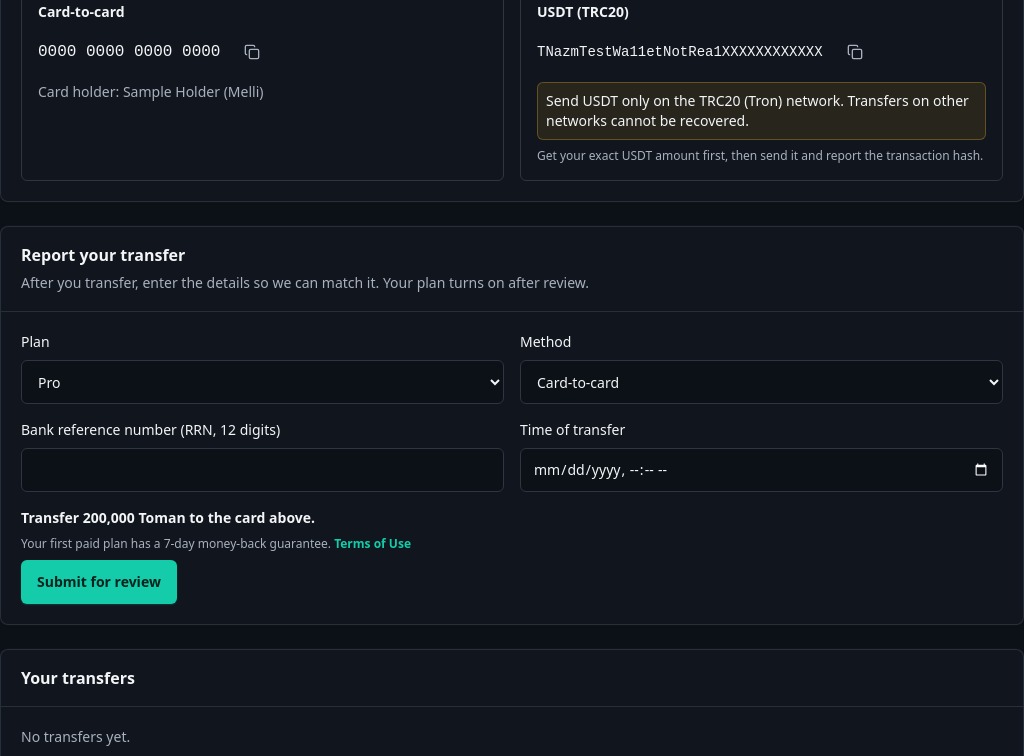
Test: BillingScreen › keeps the confirmation when refreshing the list fails after a successful submit
(page scrolled)
Expected: the text "TNazmTestWa11etNotRea1XXXXXXXXXXXX" is shown, x1=537 y1=42 x2=823 y2=62
Type "۱۲۳۴۵۶۷۸۹۰۱۲" into the field labelled "Bank reference number (RRN, 12 digits)" at (262, 470), box x1=21 y1=448 x2=504 y2=492
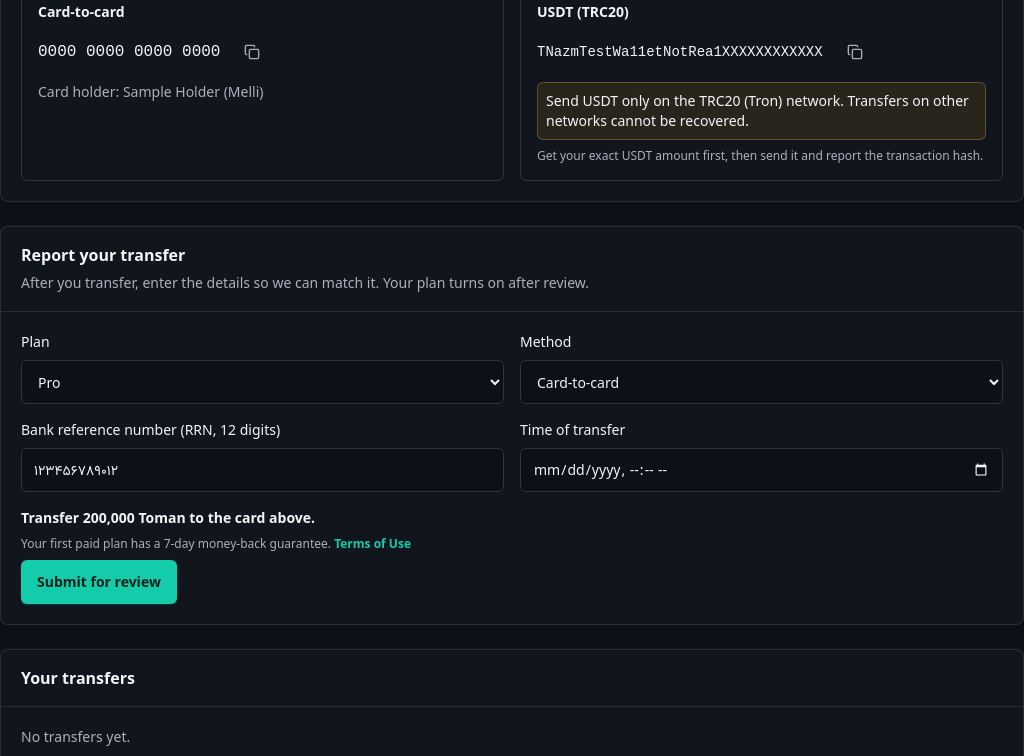
Type "2026-09-30T10:00" into the field labelled "Time of transfer" at (762, 470), box x1=520 y1=448 x2=1003 y2=492
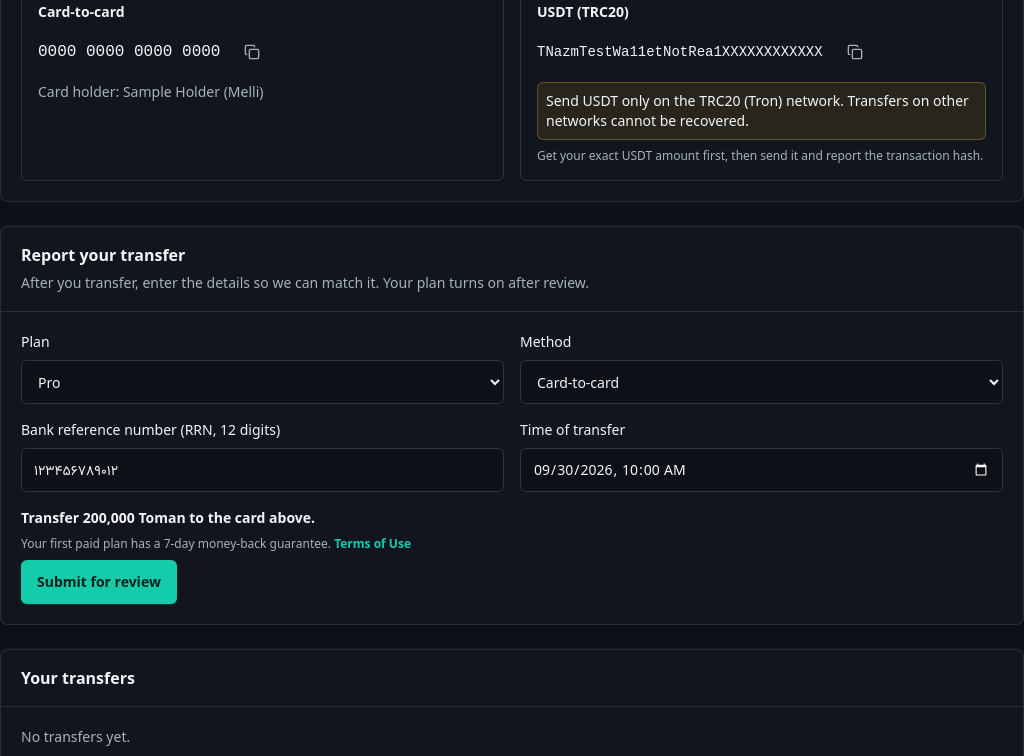
Click the button "Submit for review" at (99, 582), box x1=21 y1=560 x2=177 y2=604
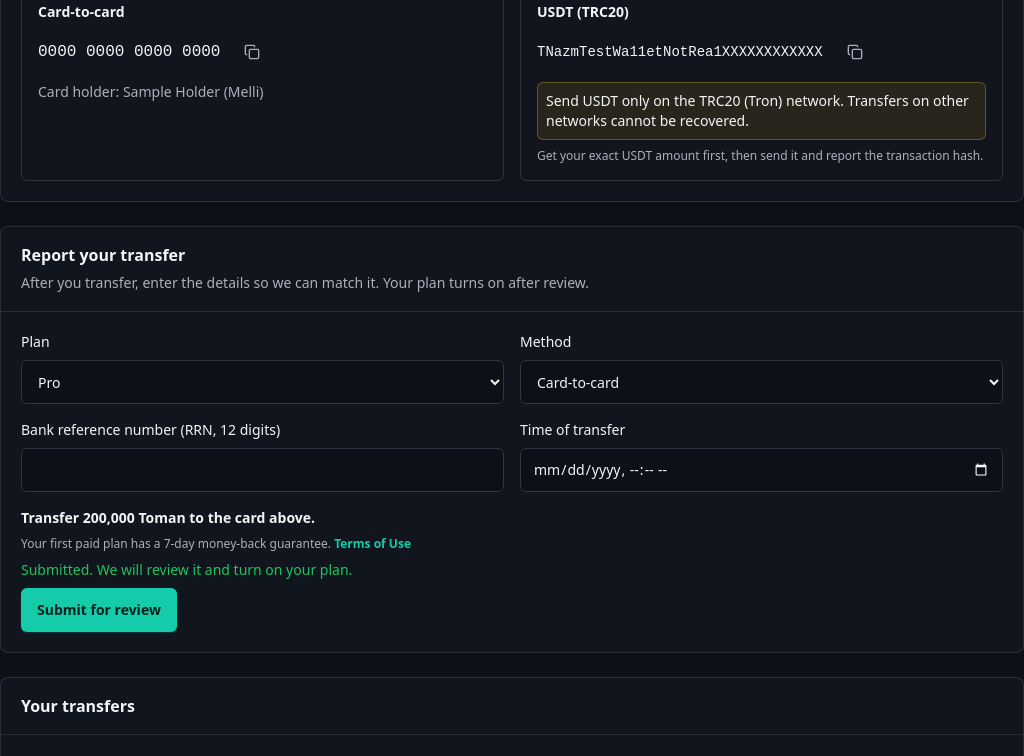
Expected: the text "TNazmTestWa11etNotRea1XXXXXXXXXXXX" is shown, x1=537 y1=42 x2=823 y2=62
Expected: the text "Submitted. We will review it and turn on your plan." is shown, x1=21 y1=560 x2=352 y2=579
